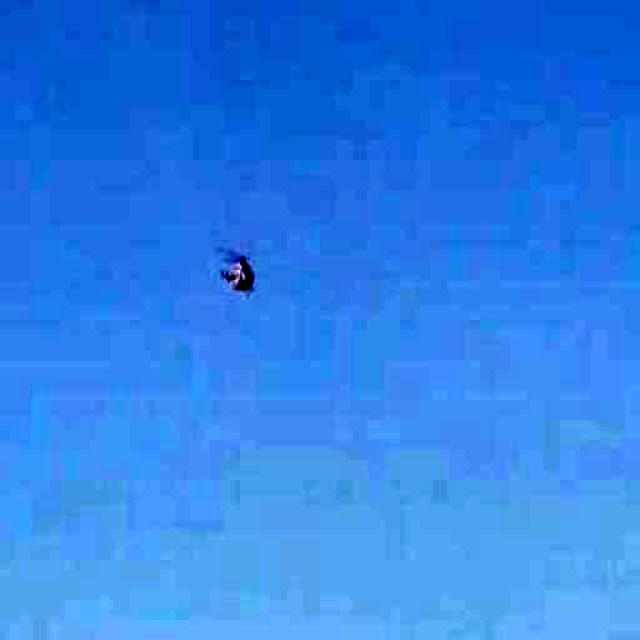drone: (194, 225, 294, 311)
